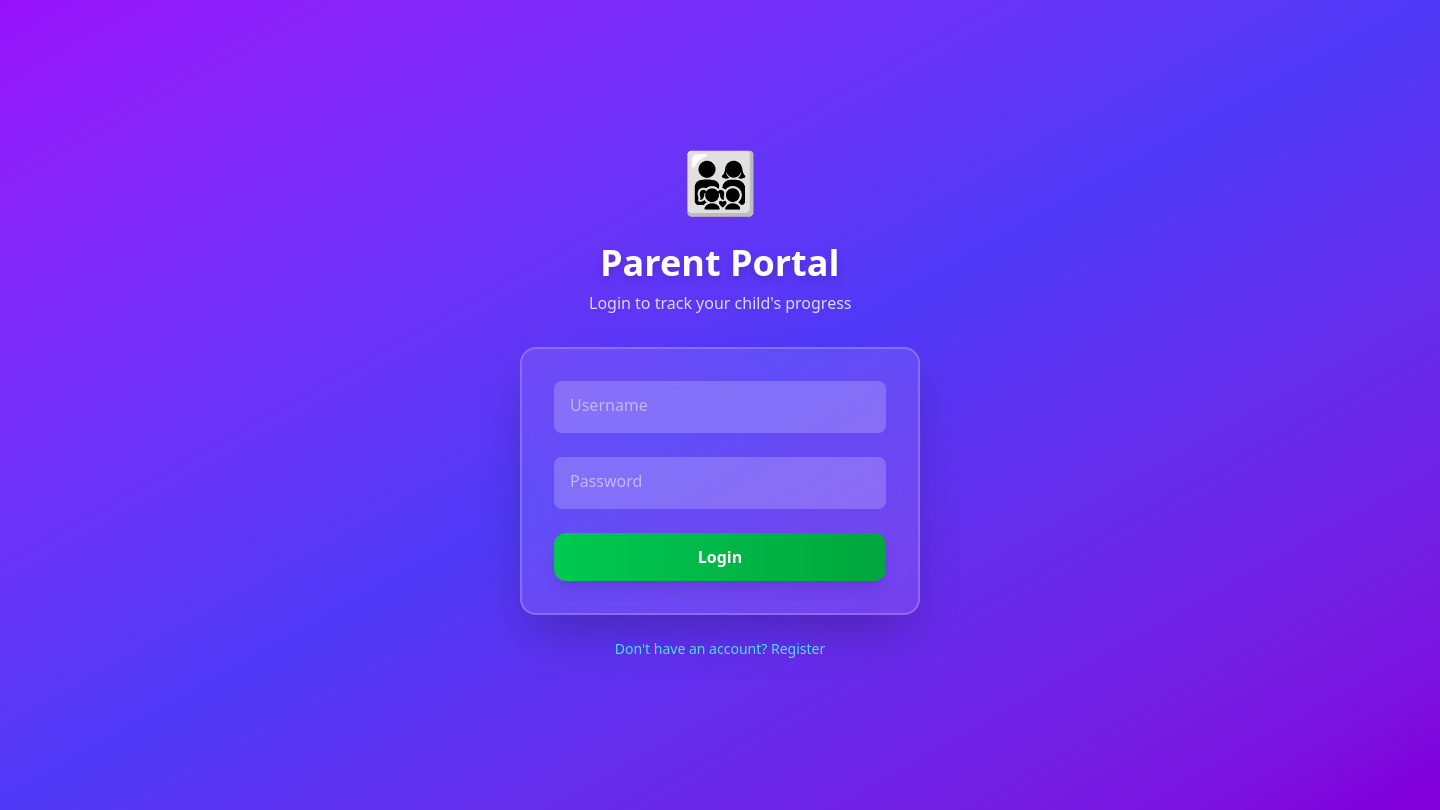
Test: ParentLogin › should show error message for invalid credentials
Type "parent1" into the field labelled "Username" at (720, 407), box [554, 381, 886, 433]
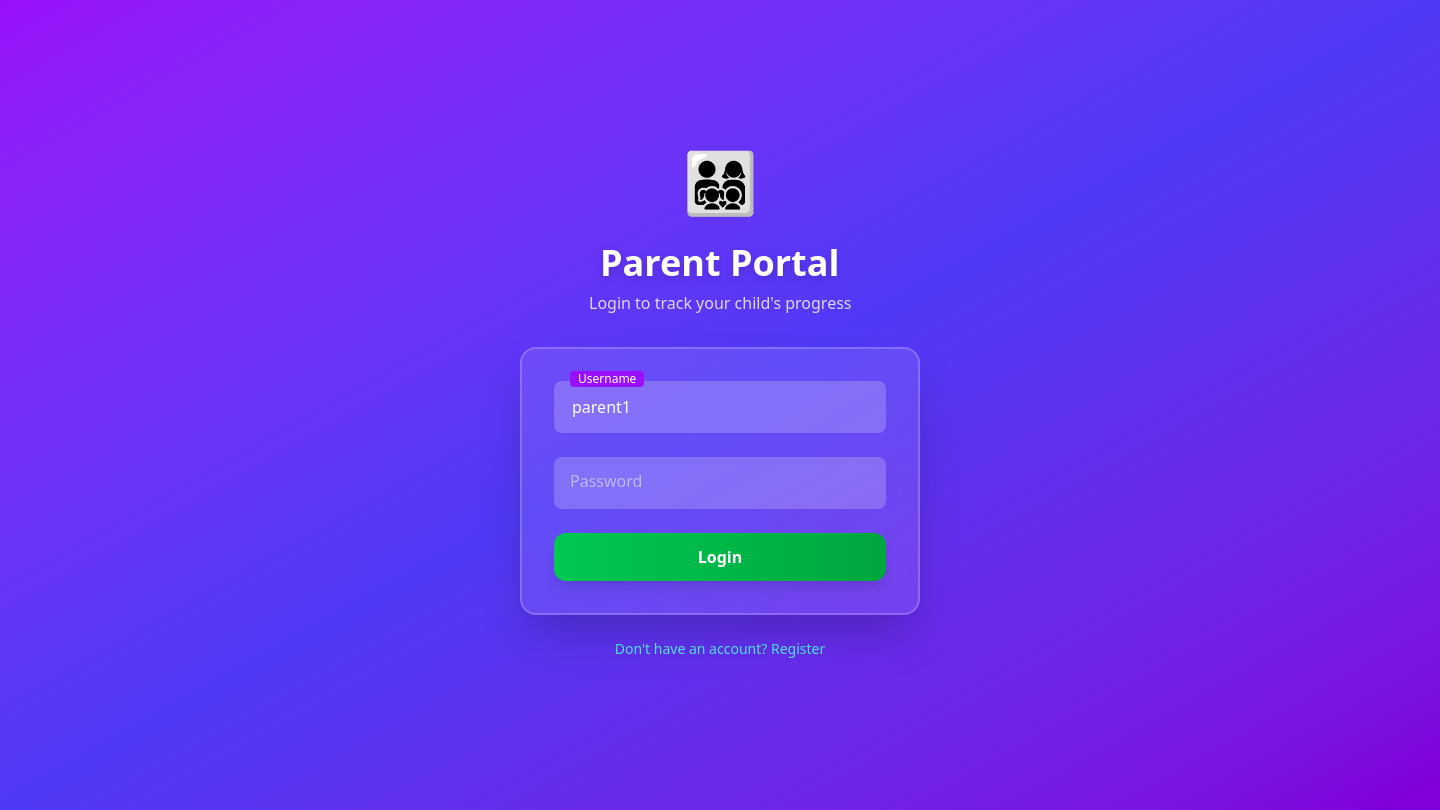
Type "wrongpassword" into the password field labelled "Password" at (720, 483), box [554, 457, 886, 509]
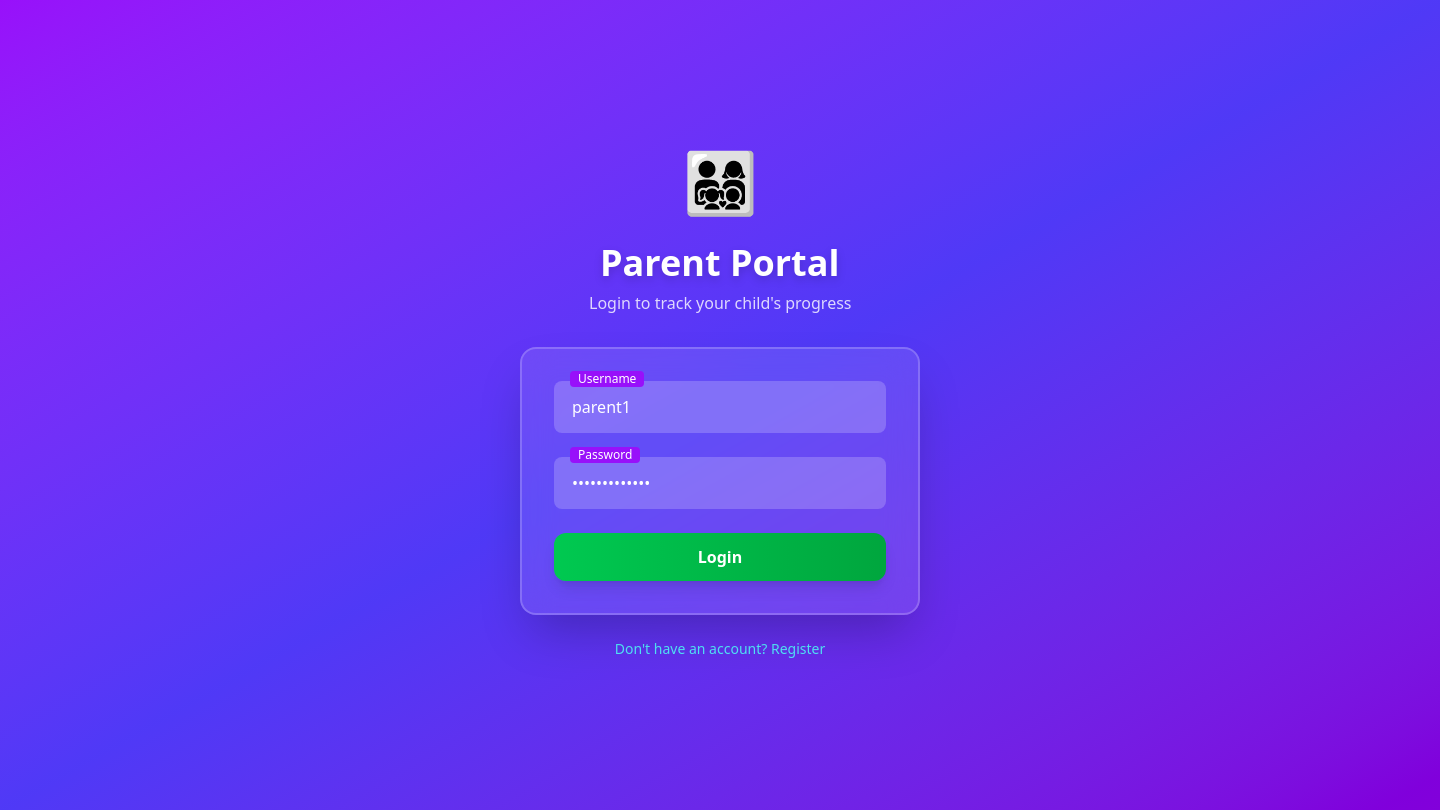
Click the button "Login" at (720, 557), box [554, 533, 886, 581]
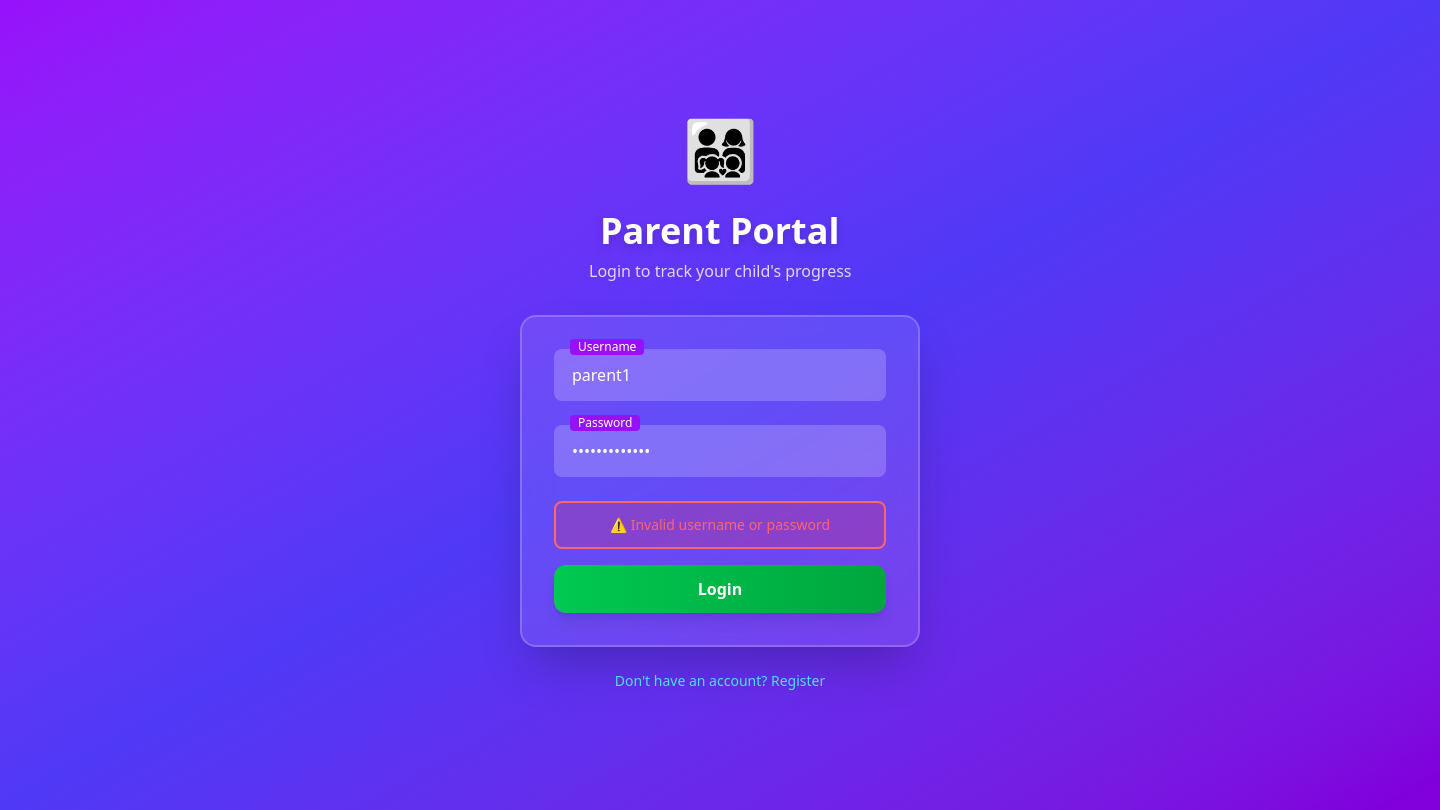
expect the text "⚠️ Invalid username or password" is shown: met, box [610, 515, 830, 534]
